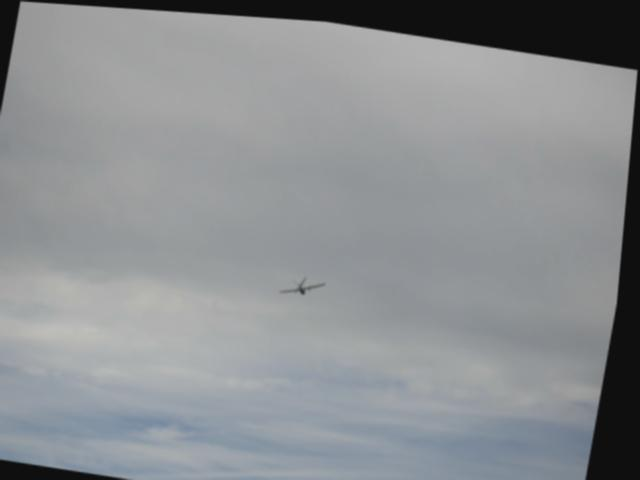plane: (281, 267, 330, 296)
